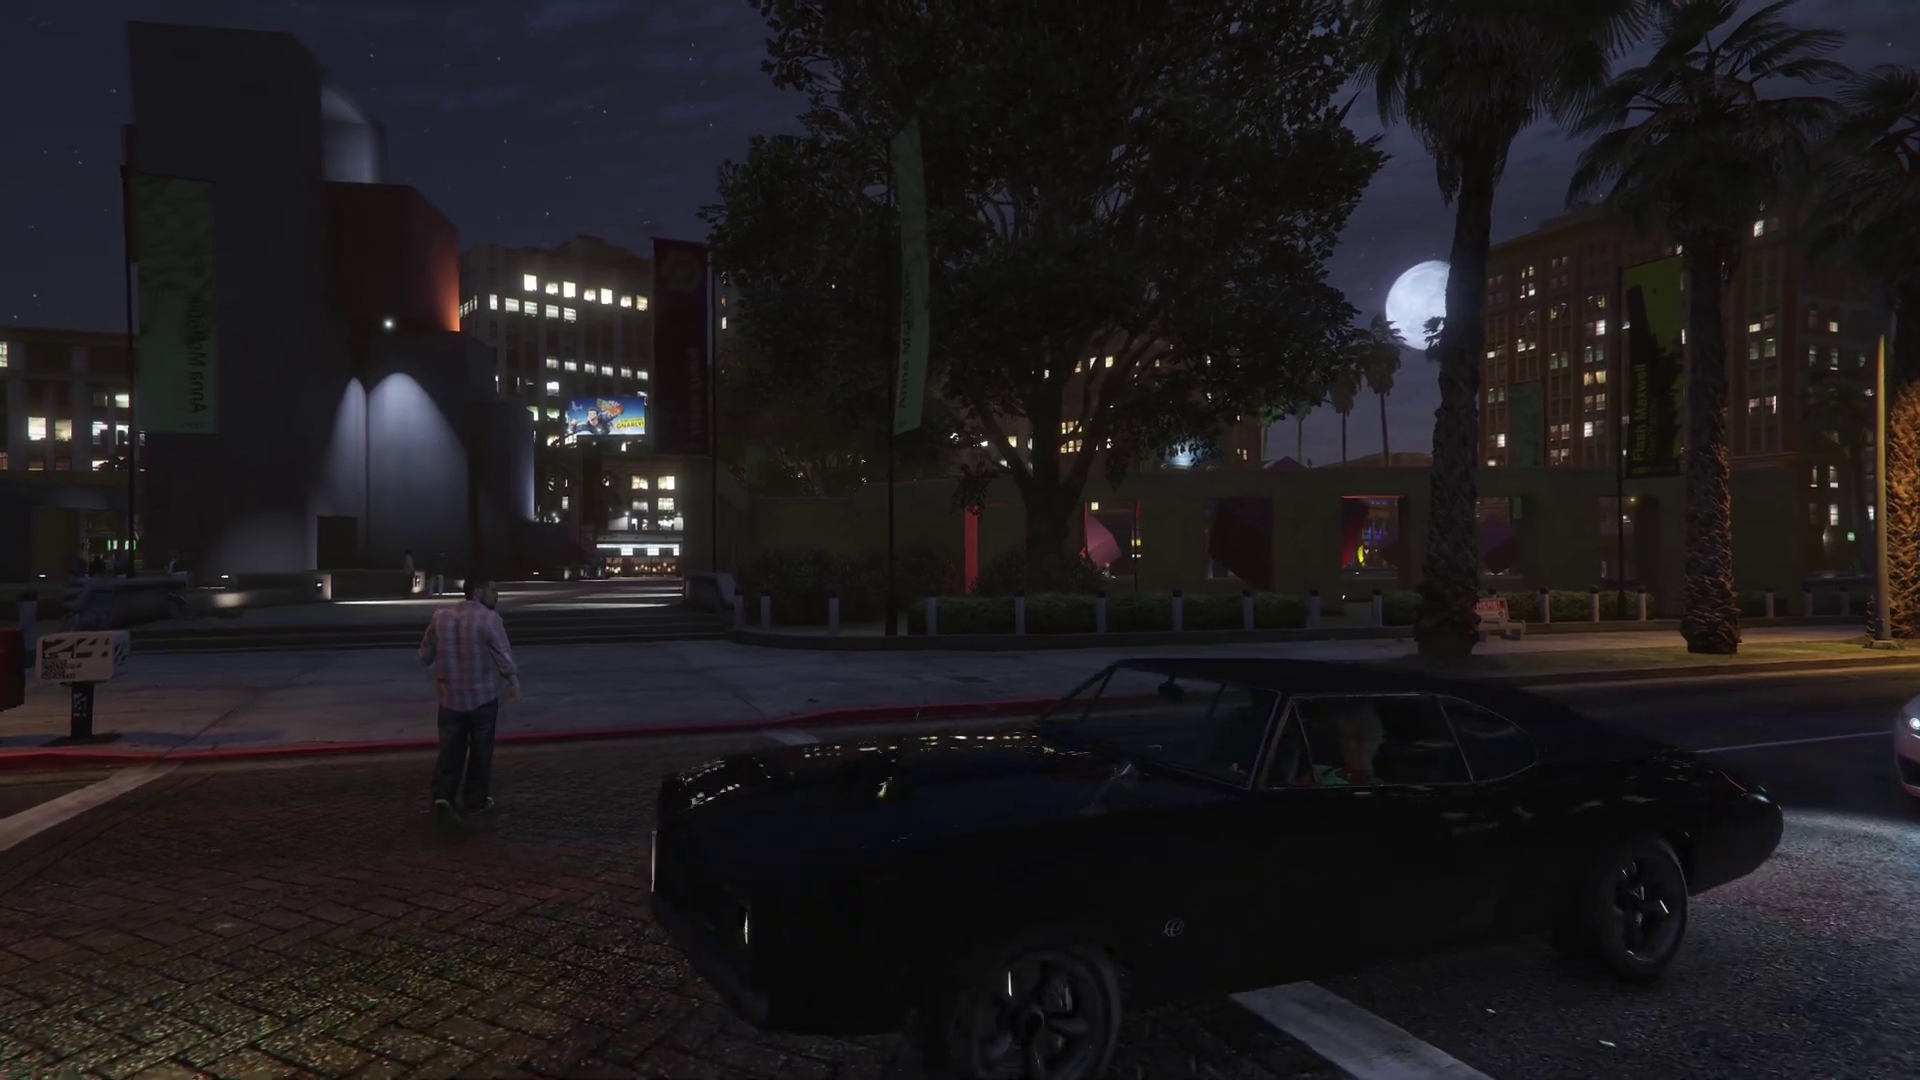car: (641, 656, 1781, 1080)
person: (422, 574, 526, 835), (1313, 707, 1388, 788), (165, 584, 245, 621), (404, 549, 417, 601), (431, 549, 445, 597), (163, 548, 183, 574)
